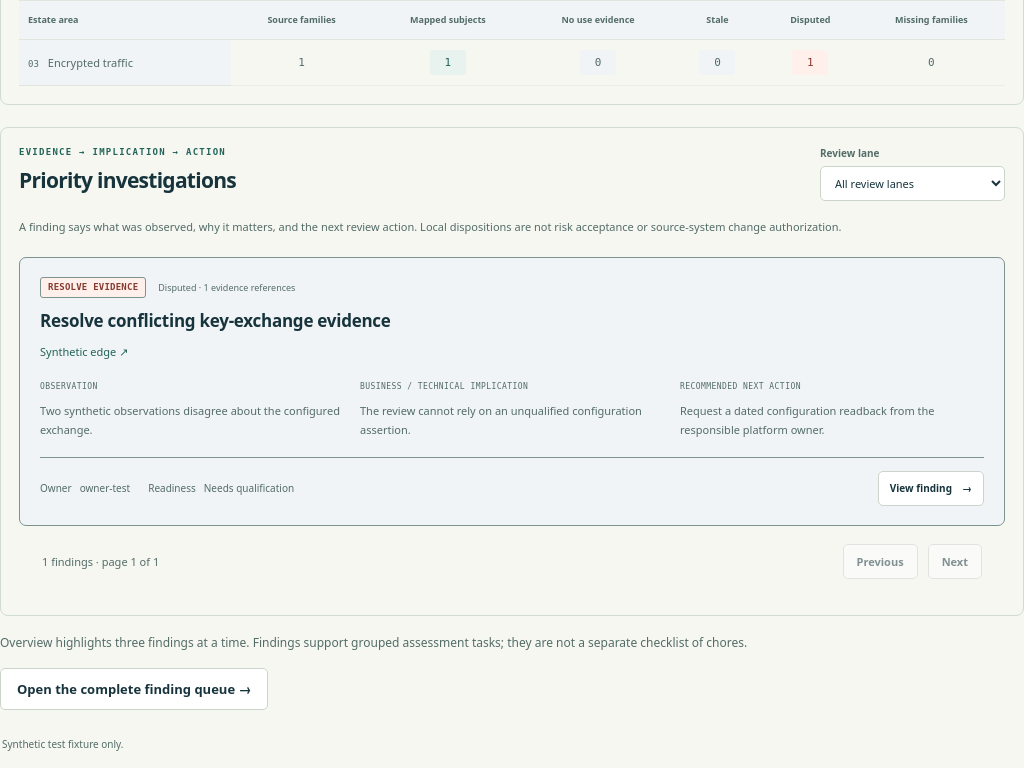
Test: analytical workspace › allows viewers to inspect a finding but not record actions or prepare a draft
(page scrolled)
Click the button "View finding →". click: (931, 489)
box: x1=878 y1=471 x2=984 y2=506
(page scrolled)
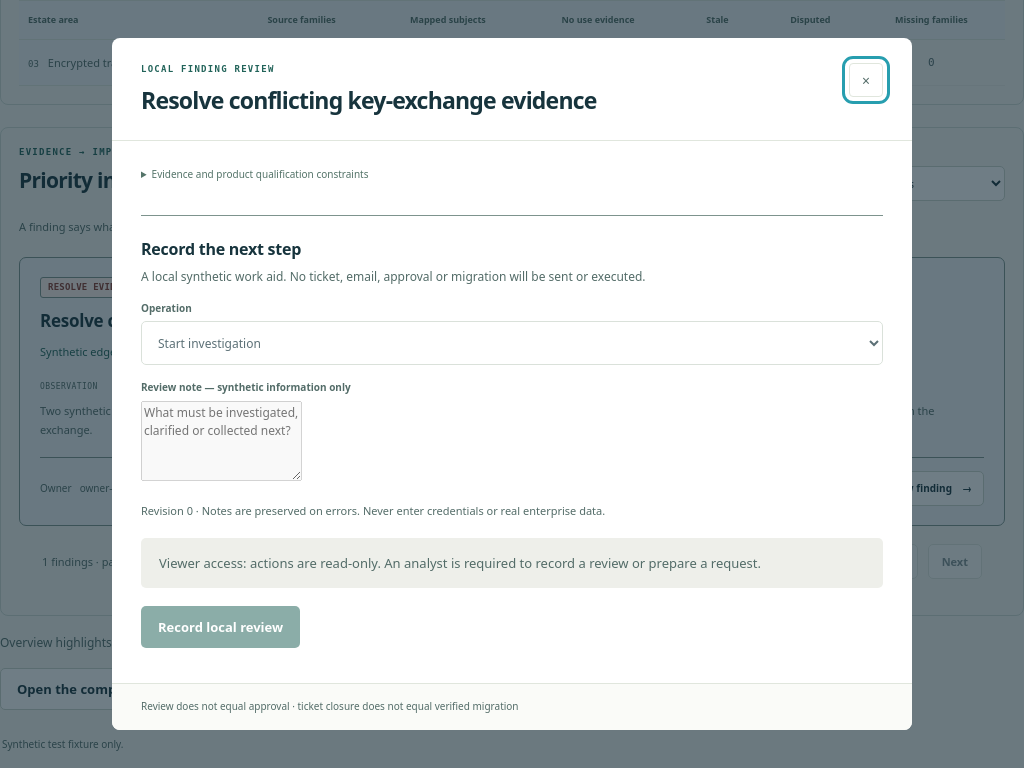
Result: the button "Record local review" is disabled at x1=141 y1=606 x2=300 y2=648
Result: the dropdown labelled "Operation" is disabled at x1=141 y1=321 x2=883 y2=365
Result: the text "Viewer access: actions are read-only" is shown at x1=159 y1=554 x2=761 y2=572
